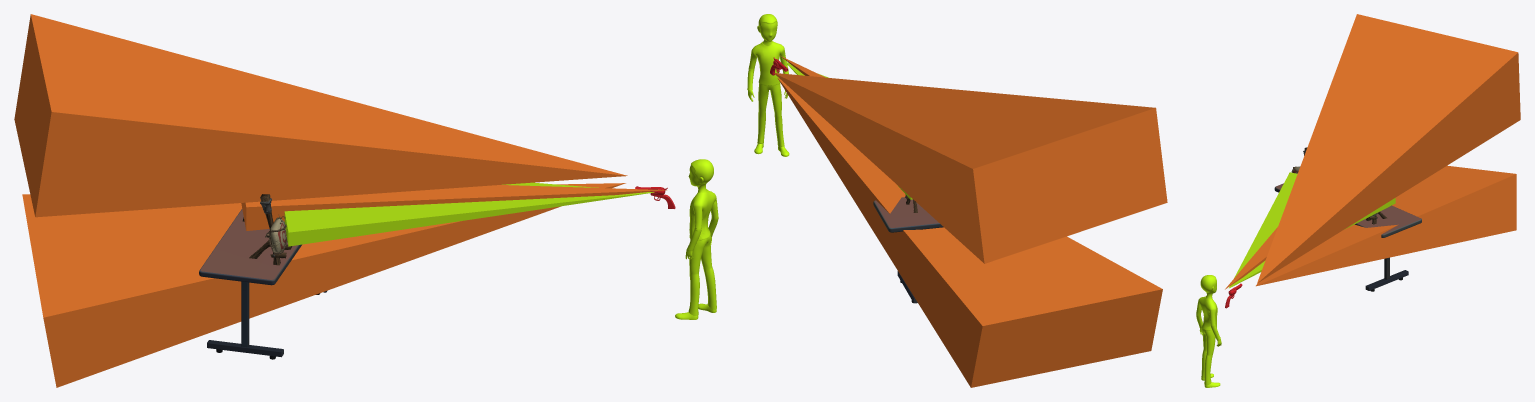
The model's file is 316 shooting.glb.
3 views of the same model, side by side, from view 1: azimuth 30°, elevation 25°; view 2: azimuth 150°, elevation 25°; view 3: azimuth 270°, elevation 25° (orthographic). The views are drawn at different scales.
Parts seen in each view (by area): view 1: mesh_id130, mesh_id124, mesh_id116, mesh_id131, node_id30, mesh_id33, node_id96; view 2: mesh_id130, mesh_id124, mesh_id33, node_id30; view 3: mesh_id130, mesh_id124, mesh_id33, mesh_id116, node_id30, mesh_id131.
Boxes of the visible parts, left/top/right/bottom form: mesh_id130: left=14, top=14, right=627, bottom=217; mesh_id124: left=22, top=183, right=625, bottom=387; mesh_id116: left=284, top=182, right=654, bottom=246; mesh_id131: left=241, top=185, right=666, bottom=230; node_id30: left=199, top=209, right=327, bottom=359; mesh_id33: left=675, top=159, right=718, bottom=319; node_id96: left=249, top=194, right=292, bottom=265; mesh_id130: left=774, top=73, right=1167, bottom=263; mesh_id124: left=777, top=78, right=1162, bottom=387; mesh_id33: left=747, top=14, right=789, bottom=156; node_id30: left=873, top=197, right=943, bottom=303; mesh_id130: left=1257, top=14, right=1520, bottom=283; mesh_id124: left=1256, top=165, right=1516, bottom=286; mesh_id33: left=1196, top=275, right=1221, bottom=387; mesh_id116: left=1229, top=172, right=1395, bottom=288; node_id30: left=1274, top=183, right=1421, bottom=291; mesh_id131: left=1225, top=227, right=1277, bottom=289.
Size of the model in its own units: 2.42 by 1.11 by 1.67.
11 materials, 11 textured.
